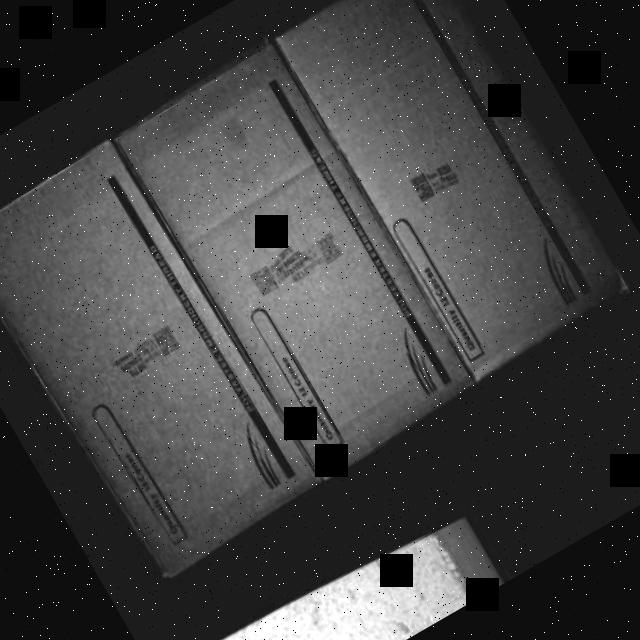box: (122, 43, 478, 474), (0, 138, 320, 581), (280, 0, 634, 379)
